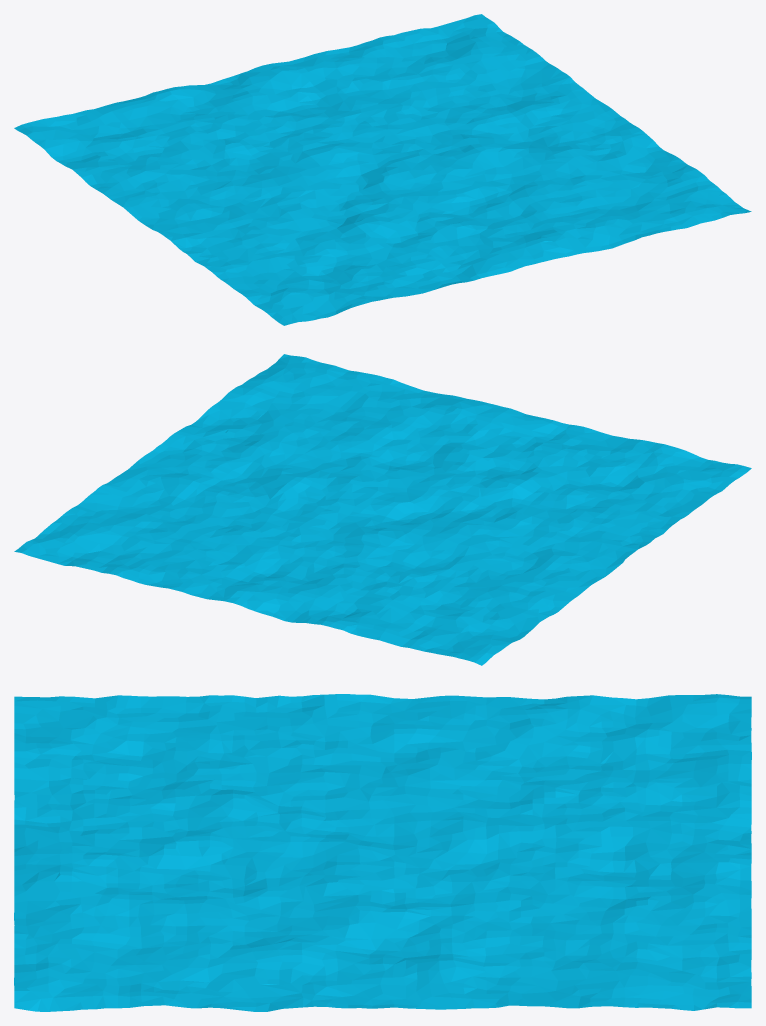
The model's file is water.fbx.
The picture shows the model from 3 angles, top to bottom: view 1: azimuth 30°, elevation 25°; view 2: azimuth 150°, elevation 25°; view 3: azimuth 270°, elevation 25°; orthographic projection. The views are drawn at different scales.
Parts seen in each view (by area): view 1: Plane; view 2: Plane; view 3: Plane.
Part boxes in pixels (bbox=[...]): Plane: bbox=[14, 14, 751, 325]; Plane: bbox=[14, 354, 751, 665]; Plane: bbox=[14, 694, 751, 1011].
Bounding box in the file's own units: 1898 × 36.1 × 1893.
